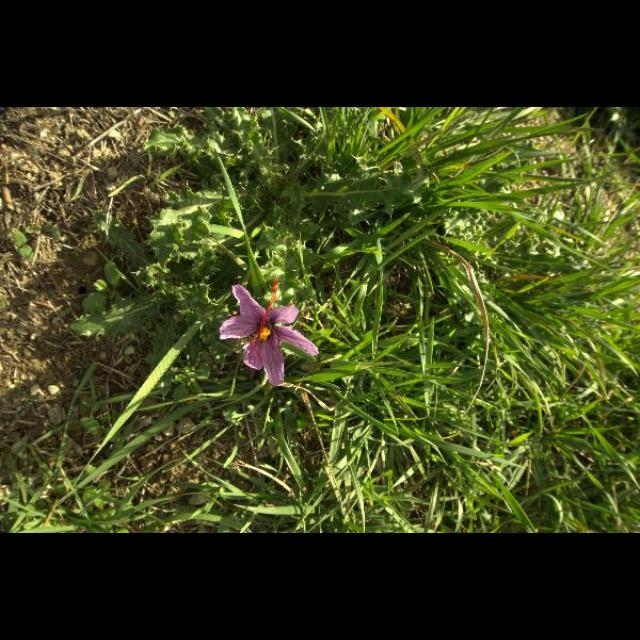flower: (220, 280, 318, 388)
